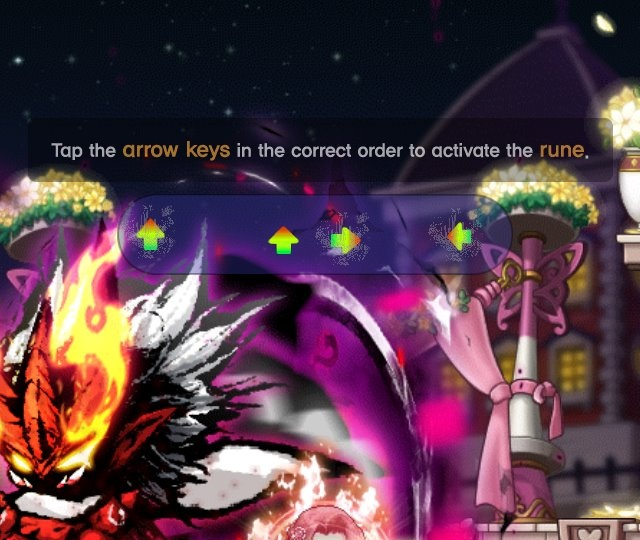left: (441, 218, 479, 257)
right: (324, 222, 367, 261)
up: (129, 213, 175, 260), (263, 222, 304, 261)
